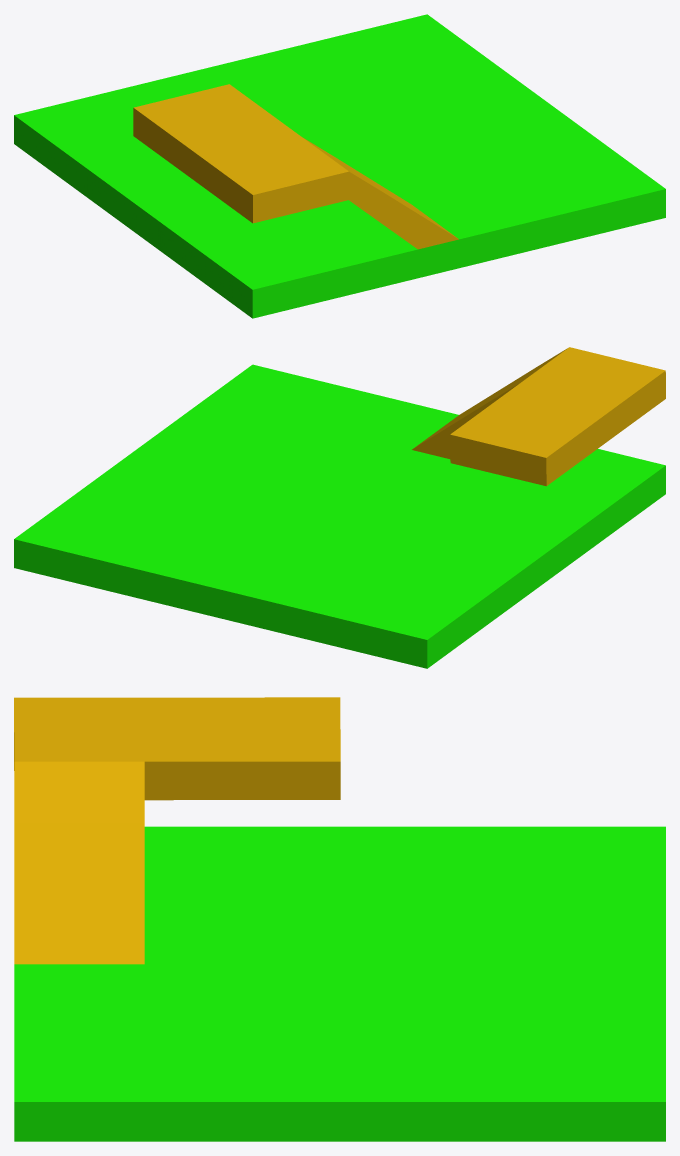
Rendered from testMap_1.glb.
3 renders of one model, top to bottom at view 1: azimuth 30°, elevation 25°; view 2: azimuth 150°, elevation 25°; view 3: azimuth 270°, elevation 25°, orthographic. The views are drawn at different scales.
Visible parts, largest first — view 1: Mesh_0; view 2: Mesh_0; view 3: Mesh_0.
Boxes of the visible parts, x1,y1,x2,y2 form: Mesh_0: [14, 14, 665, 318]; Mesh_0: [14, 347, 665, 668]; Mesh_0: [14, 697, 665, 1141].
Size of the model in its own units: 15 by 4.29 by 15.01.
